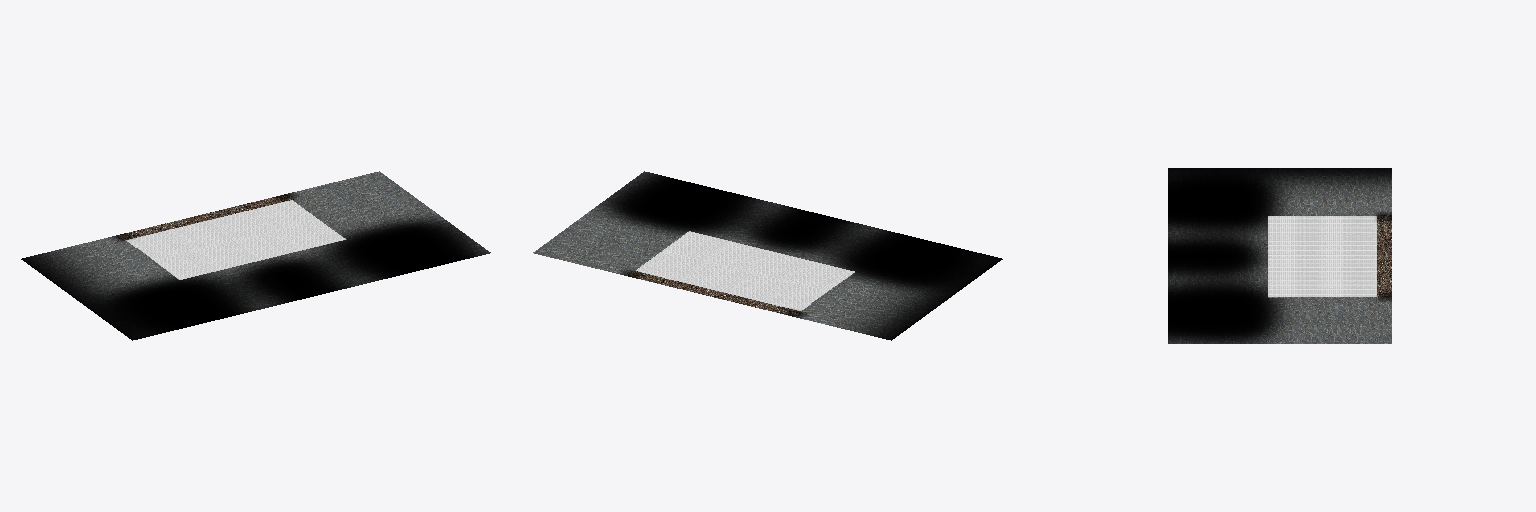
3 views of the same model, side by side, from view 1: azimuth 30°, elevation 25°; view 2: azimuth 150°, elevation 25°; view 3: azimuth 270°, elevation 25° (orthographic).
Size of the model in its own units: 37.66 by 0 by 20.34.
1 materials, 1 textured.